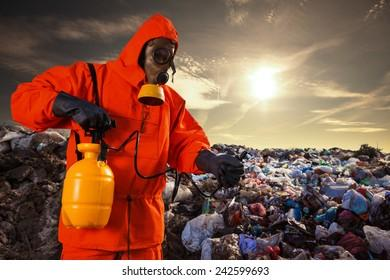gloves: (53, 91, 112, 137), (195, 150, 243, 189)
